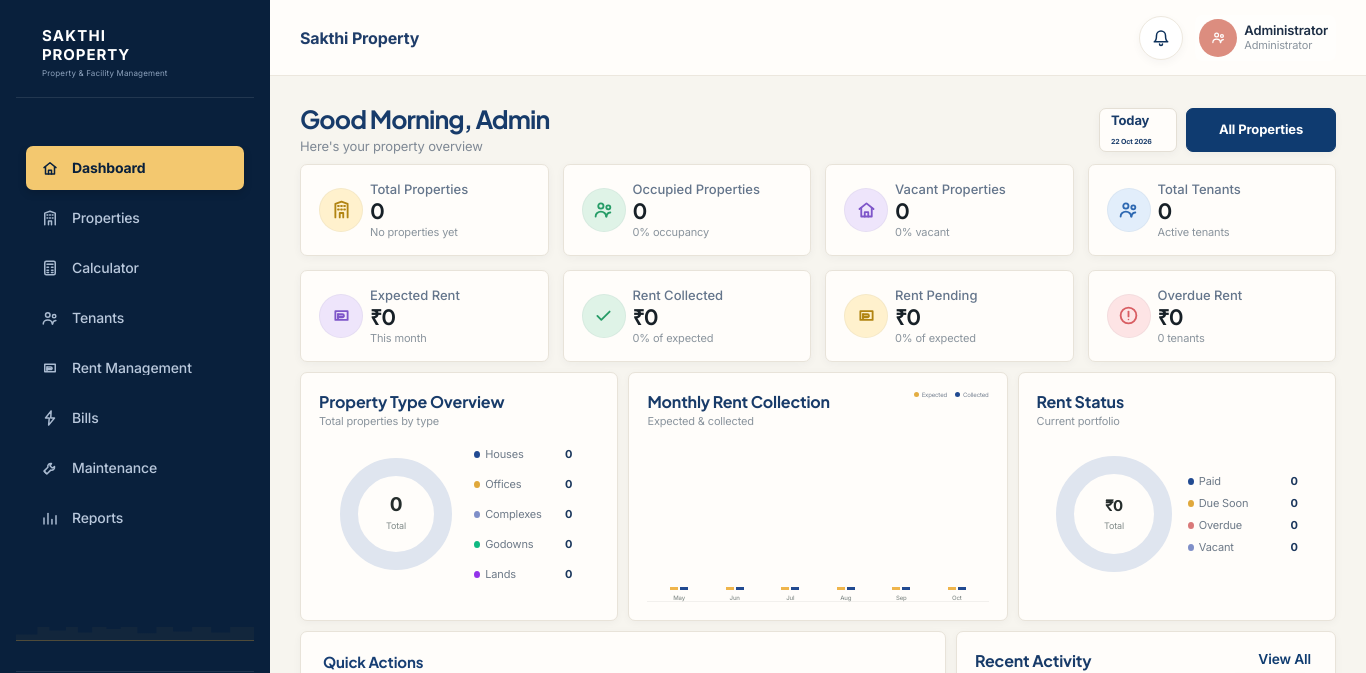
Test case: starts with no sample properties, tenants, or rent records
Expected: the text "No properties yet" is shown, [370,225,468,239]
What coordinates should you click on to do the following:
click the button "Rent Management"
I would click on:
 (135, 368)
Its box is [26,346,244,390].
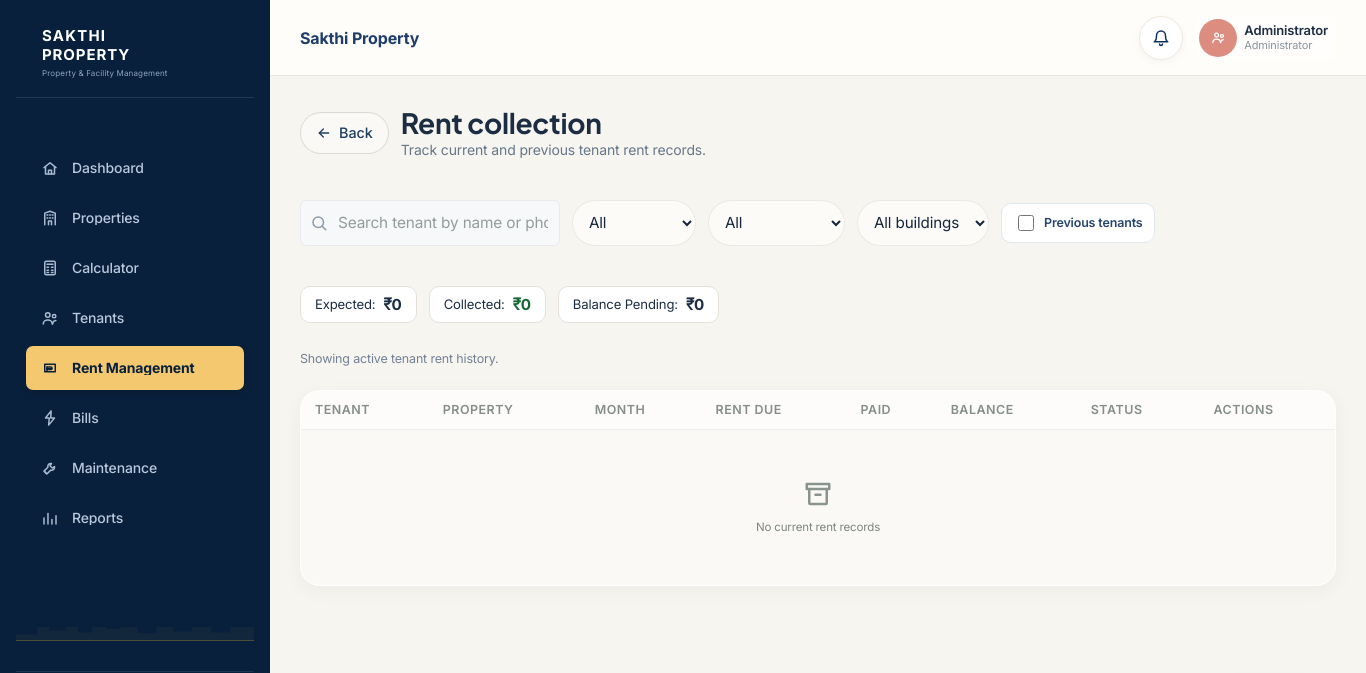
Expected: the text "No current rent records" is shown, [756,519,880,536]
